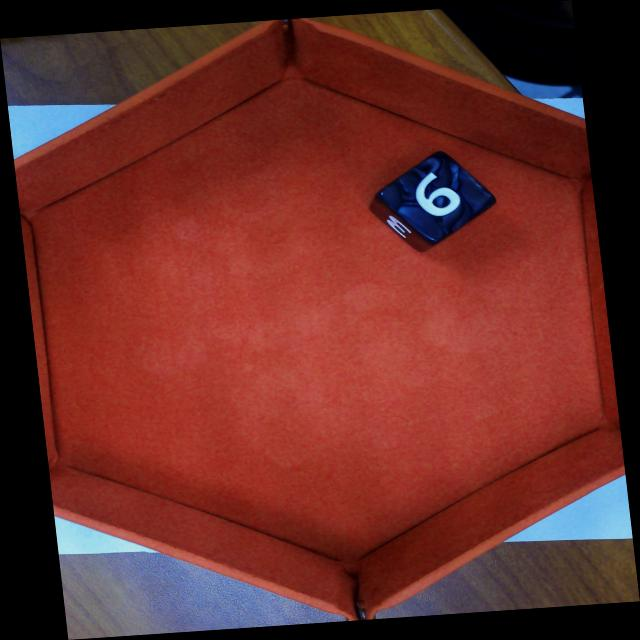dice: (384, 154, 493, 238)
